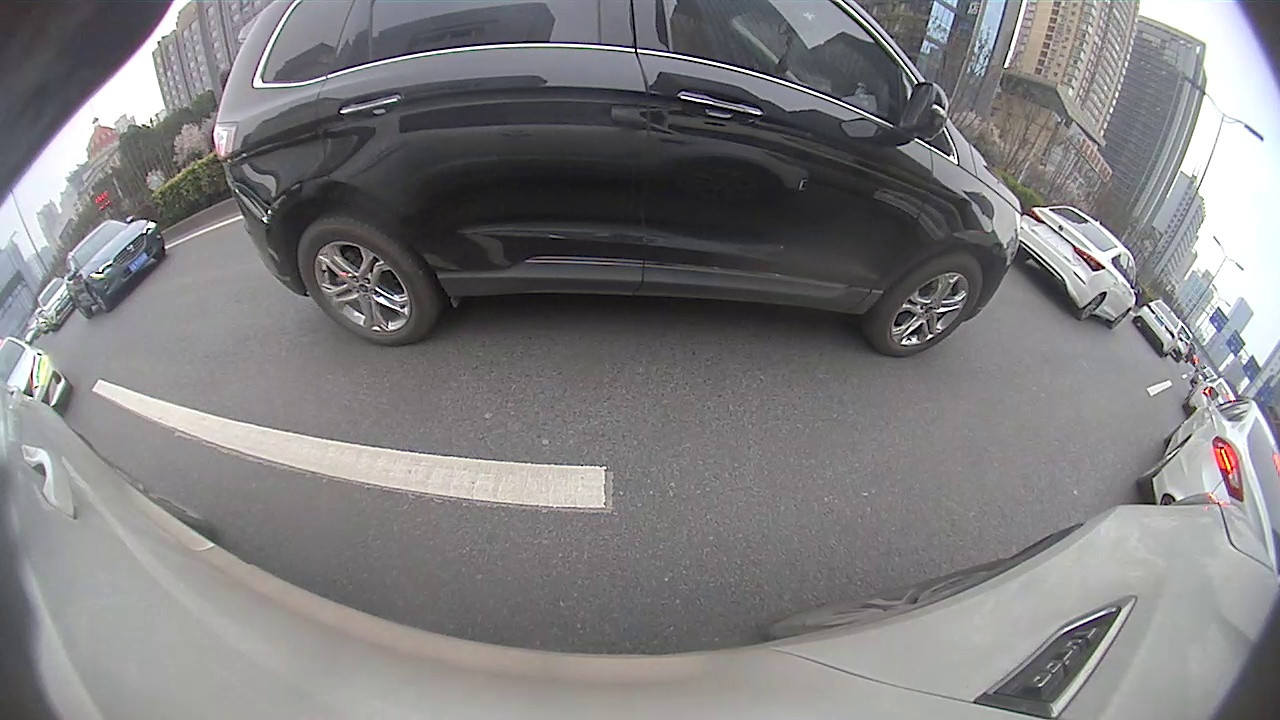car: (211, 2, 1023, 360), (1133, 386, 1278, 575), (1013, 204, 1143, 331), (64, 216, 167, 321), (1133, 298, 1185, 360)
front: (877, 253, 985, 355)
rear: (296, 218, 433, 345), (1077, 292, 1106, 321)
